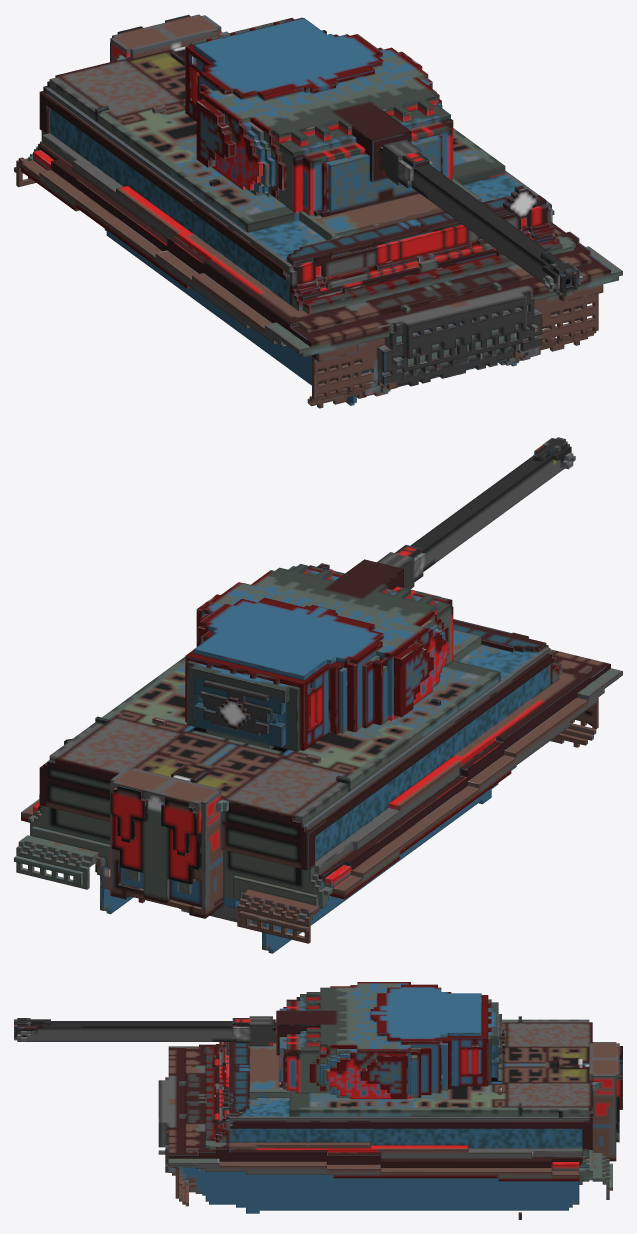
The model's file is Havy .fbx.
The picture shows the model from 3 angles, top to bottom: view 1: azimuth 30°, elevation 25°; view 2: azimuth 150°, elevation 25°; view 3: azimuth 270°, elevation 25°; orthographic projection. The views are drawn at different scales.
Parts seen in each view (by area): view 1: Untitled; view 2: Untitled; view 3: Untitled.
Boxes of the visible parts, x1,y1,x2,y2 form: Untitled: [14, 14, 622, 408]; Untitled: [14, 437, 622, 953]; Untitled: [14, 982, 622, 1219].
Bounding box in the file's own units: 820 × 580 × 1810.
Materials: 1 (1 with a texture image).
